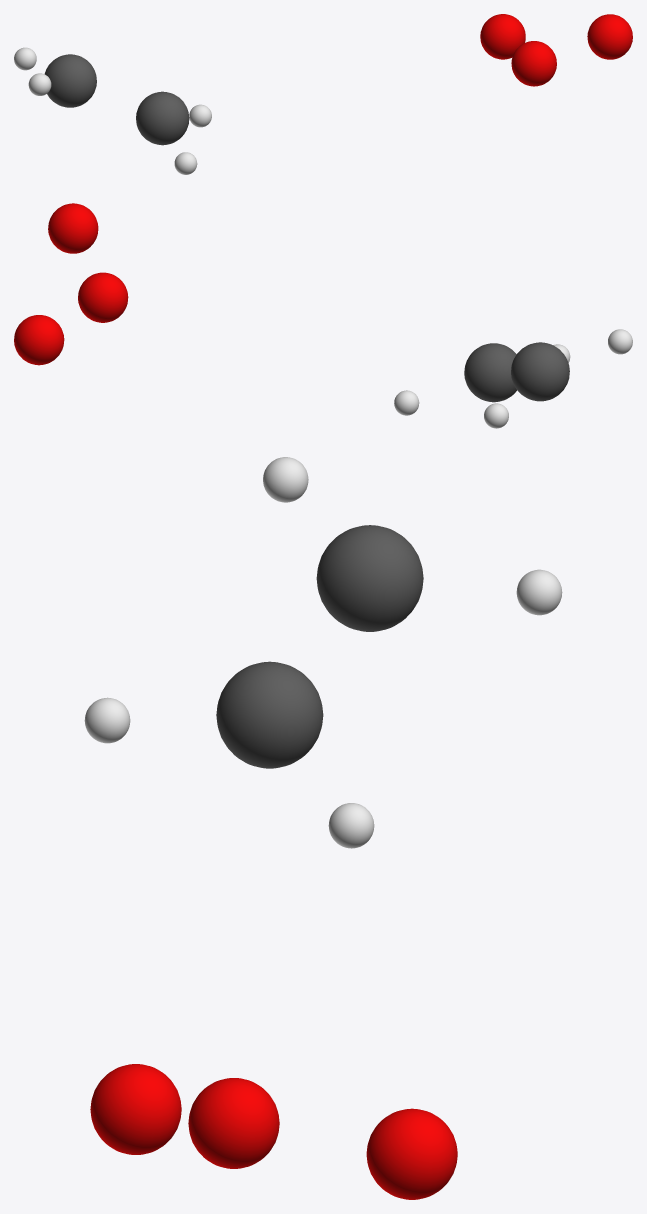
File: Ozone_complete.fbx
3 renders of one model, top to bottom at view 1: azimuth 30°, elevation 25°; view 2: azimuth 150°, elevation 25°; view 3: azimuth 270°, elevation 25°, orthographic. The views are drawn at different scales.
Parts seen in each view (by area): view 1: C04, C07, O03, O02, O01, H08, H09, H05, H06; view 2: C07, C04, O03, O02, O01, H06, H09, H08; view 3: C07, C04, O01, O03, O02, H09, H05, H06, H08.
Part boxes in pixels (x1=…): C04: x1=136, y1=91, x2=189, y2=145; C07: x1=44, y1=54, x2=96, y2=107; O03: x1=587, y1=14, x2=632, y2=59; O02: x1=511, y1=41, x2=556, y2=86; O01: x1=480, y1=14, x2=525, y2=59; H08: x1=28, y1=73, x2=51, y2=95; H09: x1=14, y1=47, x2=36, y2=70; H05: x1=174, y1=152, x2=197, y2=174; H06: x1=189, y1=104, x2=211, y2=127; C07: x1=511, y1=342, x2=569, y2=401; C04: x1=464, y1=343, x2=517, y2=402; O03: x1=48, y1=203, x2=98, y2=253; O02: x1=78, y1=272, x2=128, y2=322; O01: x1=14, y1=315, x2=64, y2=365; H06: x1=394, y1=390, x2=419, y2=415; H09: x1=484, y1=403, x2=508, y2=428; H08: x1=608, y1=329, x2=632, y2=354; C07: x1=316, y1=525, x2=423, y2=631; C04: x1=216, y1=661, x2=323, y2=768; O01: x1=366, y1=1108, x2=457, y2=1199; O03: x1=90, y1=1064, x2=181, y2=1154; O02: x1=188, y1=1078, x2=279, y2=1168; H09: x1=516, y1=569, x2=562, y2=615; H05: x1=84, y1=697, x2=130, y2=743; H06: x1=328, y1=803, x2=374, y2=848; H08: x1=263, y1=457, x2=308, y2=502.
Bounding box in the file's own units: 910 × 196 × 335.
